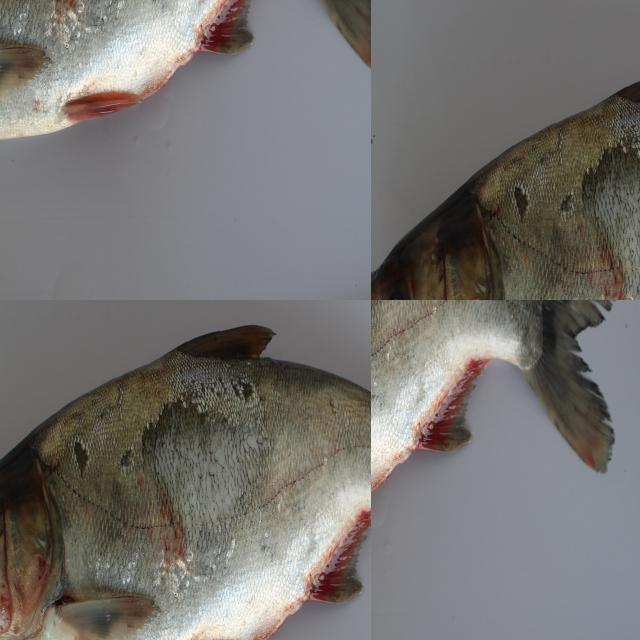fish: (371, 300, 639, 516)
